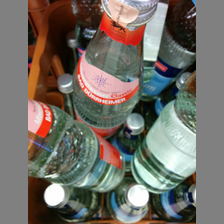water: (72, 1, 158, 134), (27, 99, 126, 193), (133, 70, 195, 192)
